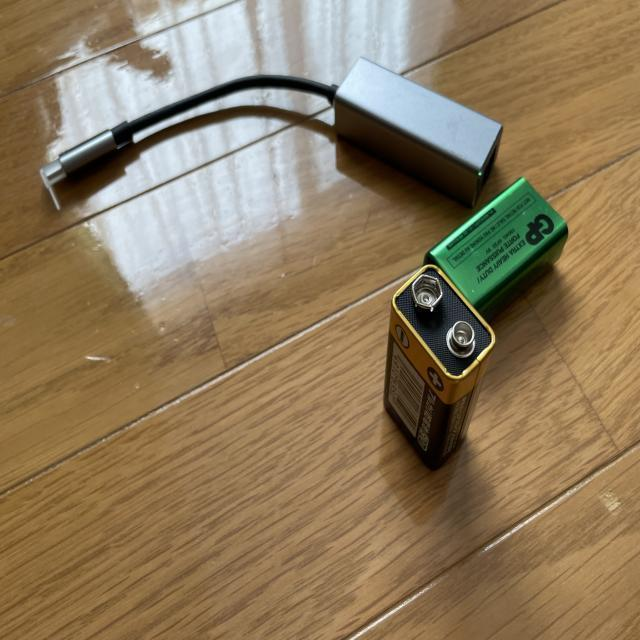9V: (422, 177, 569, 327), (385, 265, 496, 460)
